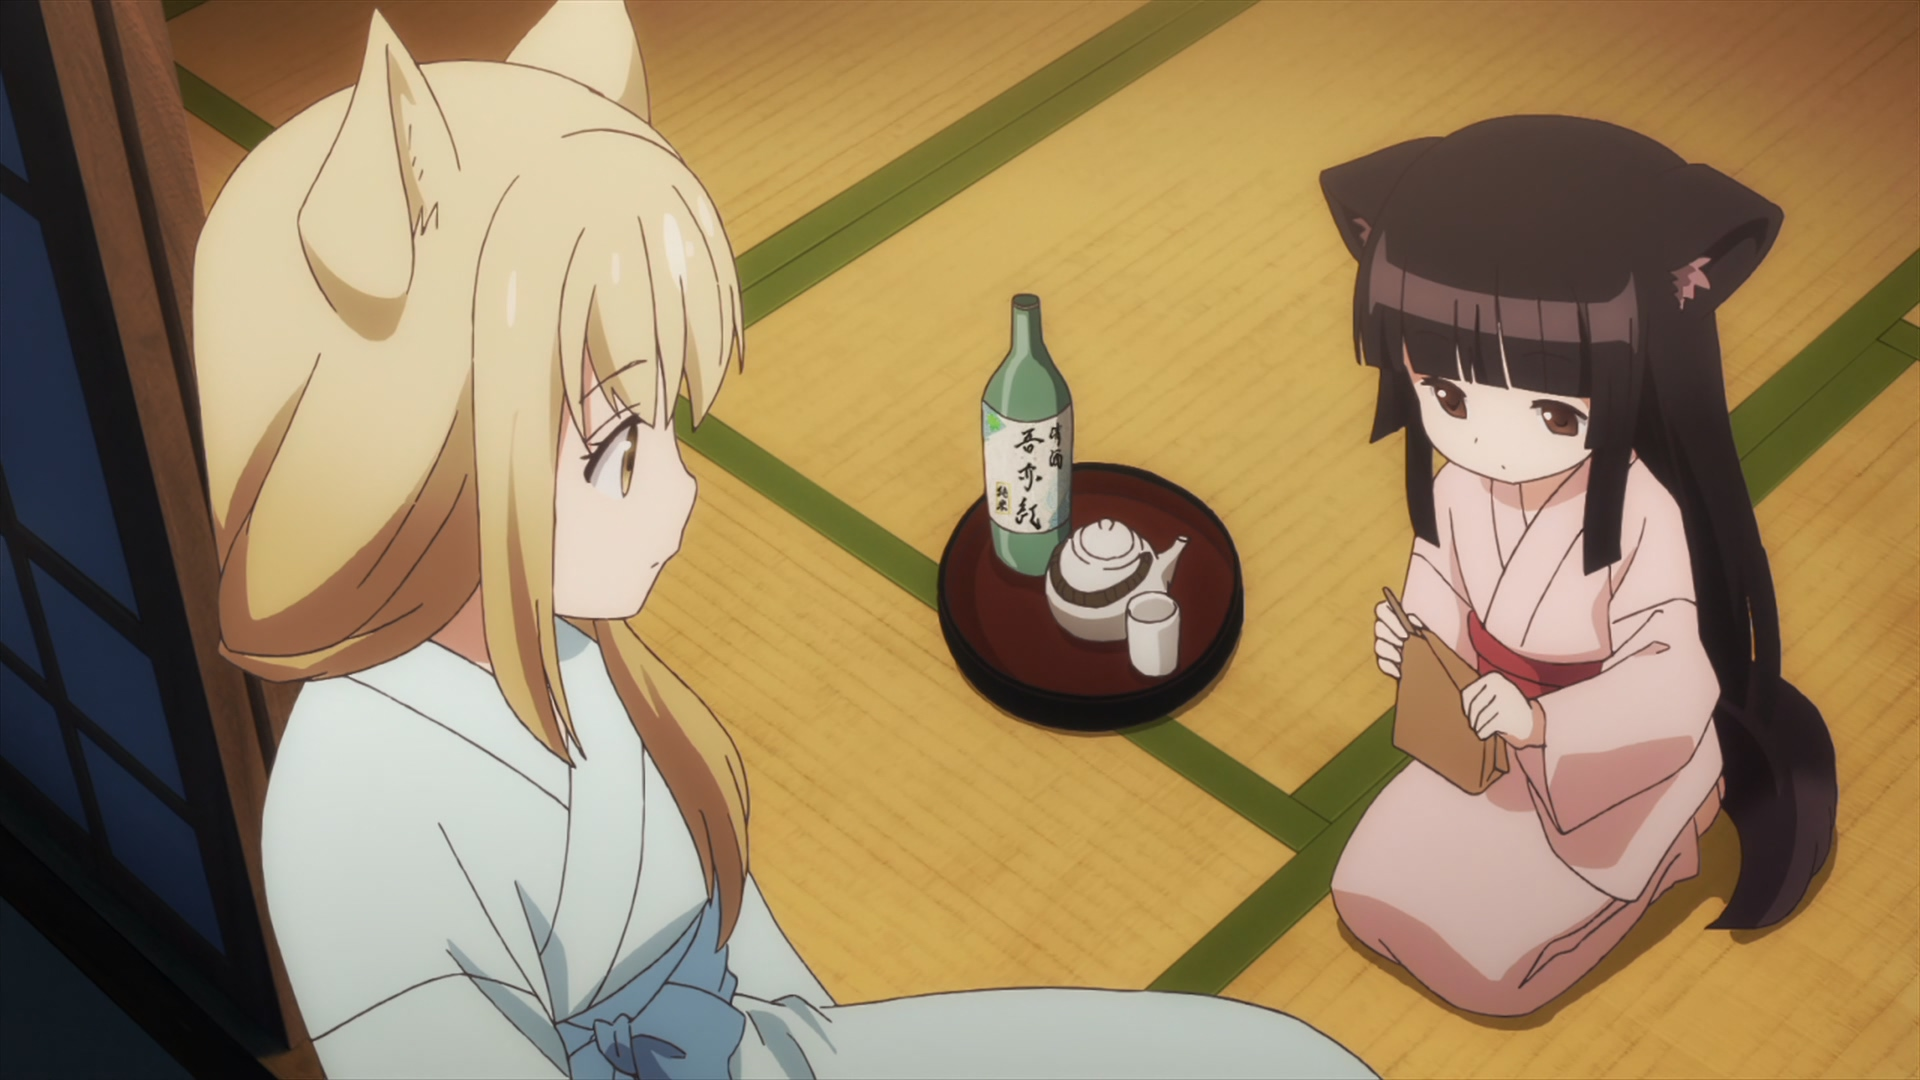桐: (190, 1, 1373, 1080)
樱: (1317, 113, 1841, 1021)
